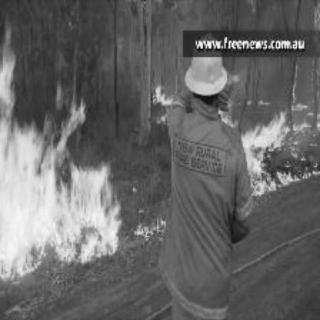Fire: (1, 47, 123, 275), (236, 110, 304, 188), (150, 77, 172, 121)
